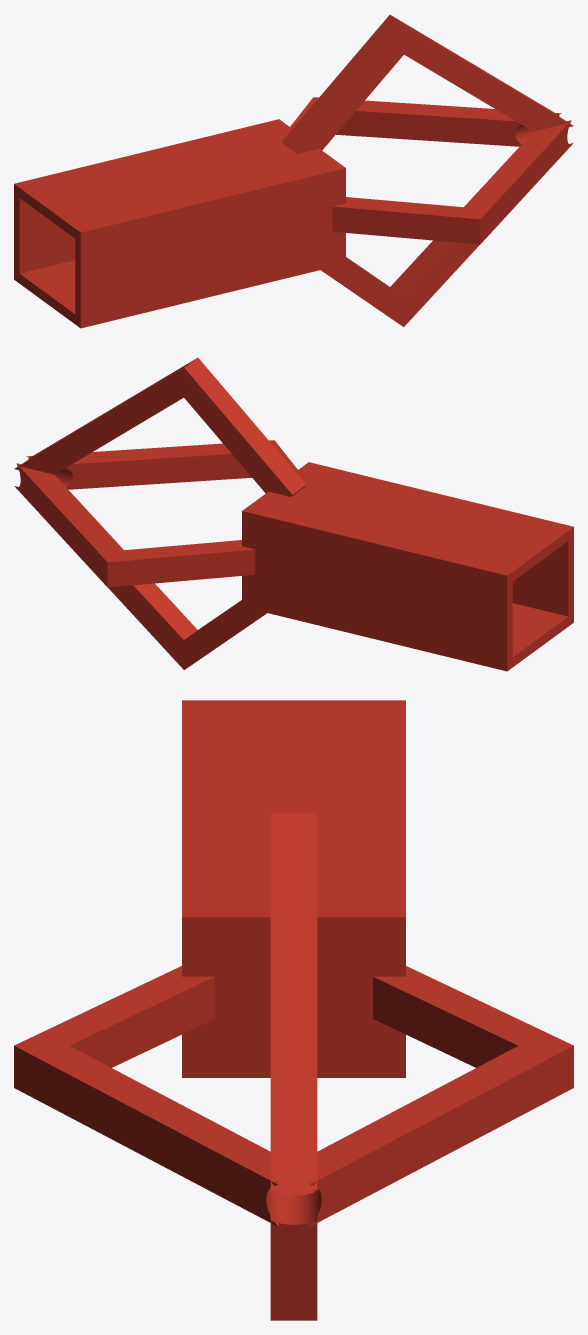
Rendered from ArmGun.fbx.
3 views of the same model, one above another, from view 1: azimuth 30°, elevation 25°; view 2: azimuth 150°, elevation 25°; view 3: azimuth 270°, elevation 25° (orthographic). The views are drawn at different scales.
Visible parts, largest first — view 1: Body1; view 2: Body1; view 3: Body1.
Part boxes in pixels (bbox=[...]): Body1: bbox=[14, 14, 573, 328]; Body1: bbox=[14, 357, 573, 671]; Body1: bbox=[14, 700, 573, 1320].
Size of the model in its own units: 1078 by 600 by 600.
